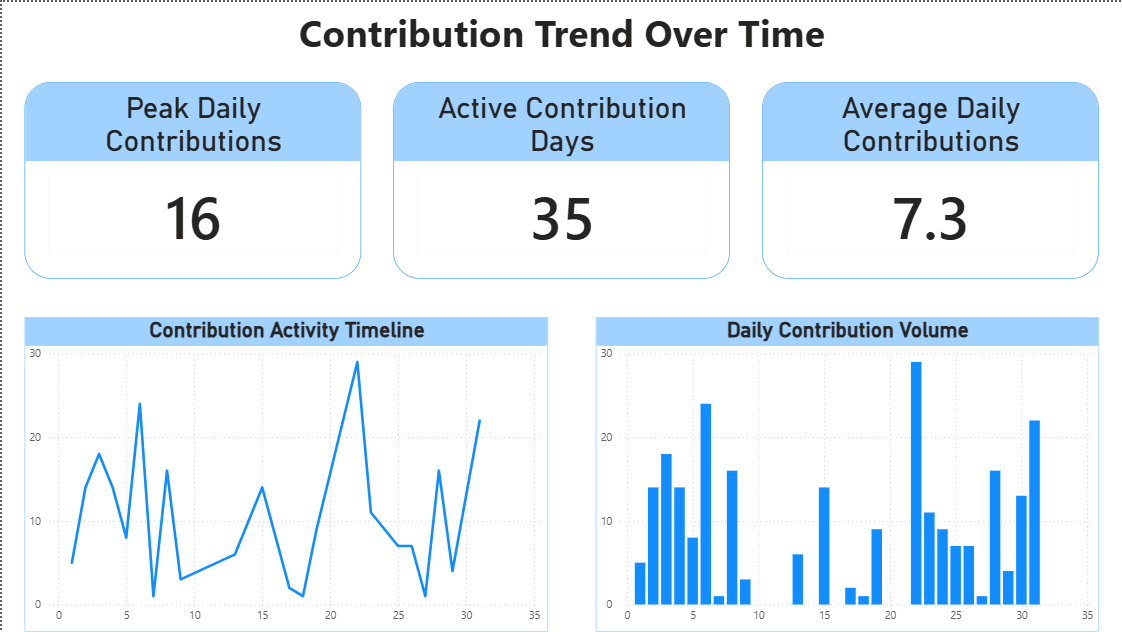

The dashboard page shown, as its layout file describes it:
{"tool":"powerbi","page":{"name":"Contribution Heatmap","canvas":[1280,720],"ordinal":3},"visuals":[{"type":"lineChart","title":"Contribution Activity Timeline","fields":{"Category":["heatmap_data.commit_date.Variation.Date Hierarchy.Day"],"Y":["Sum(heatmap_data.commit_count)"]},"box":[26.2,360,598.8,360],"z":0},{"type":"clusteredColumnChart","title":"Daily Contribution Volume","fields":{"Category":["heatmap_data.commit_date.Variation.Date Hierarchy.Day"],"Y":["Sum(heatmap_data.commit_count)"]},"box":[678.8,360,575,360],"z":1000},{"type":"textbox","box":[0,0,1280,72.5],"z":1001},{"type":"cardVisual","title":"Peak Daily Contributions","fields":{"Data":["Max(heatmap_data.commit_count)"]},"box":[26.2,91.2,385,225],"z":1002},{"type":"cardVisual","title":"Average Daily Contributions","fields":{"Data":["Avg(heatmap_data.commit_count)"]},"box":[868.8,91.2,385,225],"z":1003},{"type":"cardVisual","title":"Active Contribution Days","fields":{"Data":["Count(heatmap_data.commit_date)"]},"box":[447.5,91.2,385,225],"z":1004}]}

Visuals, with their boxes in screenshot pixels (x1, y1, x2, y2), scaled from the page's 1280x720 canvas onto the 1122x632 screenshot:
"Contribution Activity Timeline" lineChart: [23,316,548,631]
"Daily Contribution Volume" clusteredColumnChart: [595,316,1099,631]
textbox: [0,0,1121,64]
"Peak Daily Contributions" cardVisual: [23,80,360,278]
"Average Daily Contributions" cardVisual: [762,80,1099,278]
"Active Contribution Days" cardVisual: [392,80,730,278]
